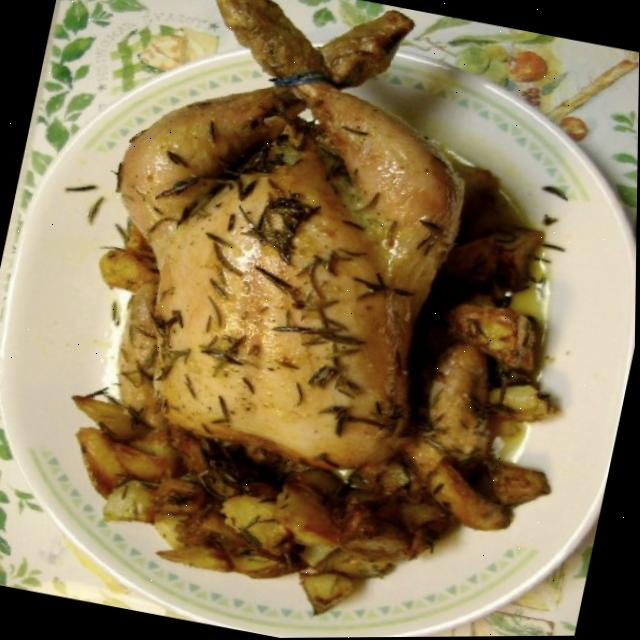鸡肉料理 含炸鸡: (57, 0, 516, 494)
